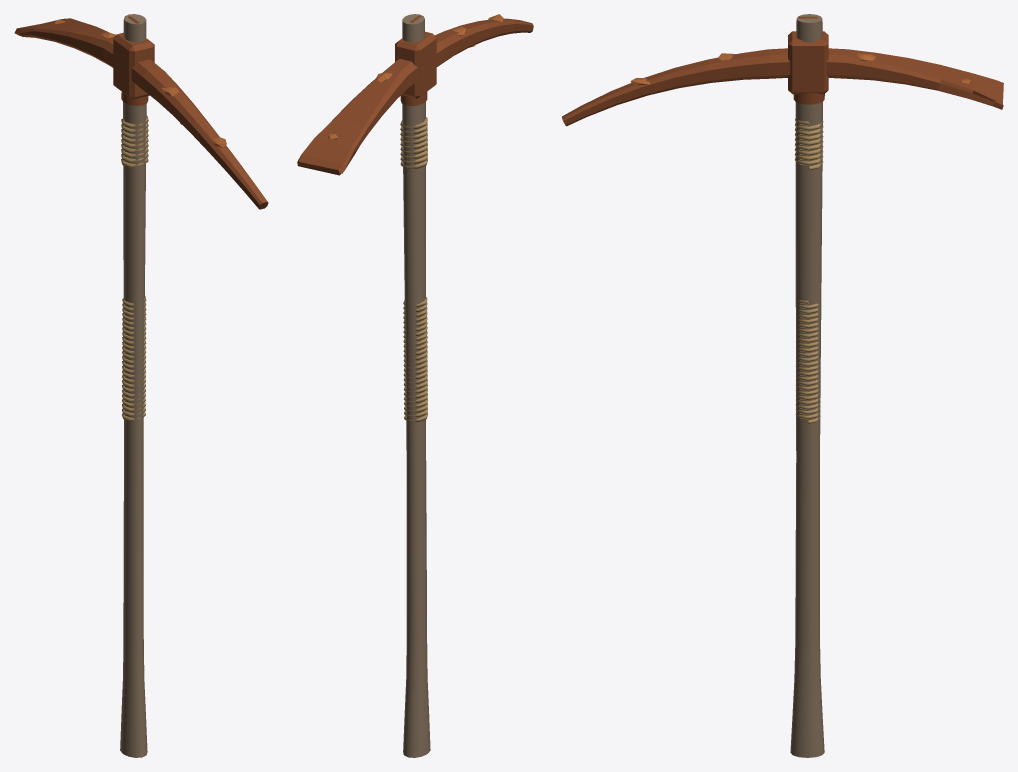
The model's file is tool_pickaxe_rust.fbx.
The picture shows the model from 3 angles, left to right: view 1: azimuth 30°, elevation 25°; view 2: azimuth 150°, elevation 25°; view 3: azimuth 270°, elevation 25°; orthographic projection.
Parts seen in each view (by area): view 1: Tool_Pickaxe_Rust_Handle, Tool_Pickaxe_Rust_Head, Tool_Pickaxe_Rust_Wrap; view 2: Tool_Pickaxe_Rust_Handle, Tool_Pickaxe_Rust_Head, Tool_Pickaxe_Rust_Wrap; view 3: Tool_Pickaxe_Rust_Handle, Tool_Pickaxe_Rust_Head, Tool_Pickaxe_Rust_Wrap.
Boxes of the visible parts, x1=… form: Tool_Pickaxe_Rust_Handle: x1=120, y1=14, x2=148, y2=757; Tool_Pickaxe_Rust_Head: x1=14, y1=16, x2=268, y2=209; Tool_Pickaxe_Rust_Wrap: x1=121, y1=115, x2=148, y2=420; Tool_Pickaxe_Rust_Handle: x1=400, y1=14, x2=430, y2=757; Tool_Pickaxe_Rust_Head: x1=297, y1=15, x2=533, y2=175; Tool_Pickaxe_Rust_Wrap: x1=400, y1=117, x2=427, y2=421; Tool_Pickaxe_Rust_Handle: x1=790, y1=14, x2=824, y2=757; Tool_Pickaxe_Rust_Head: x1=562, y1=16, x2=1003, y2=126; Tool_Pickaxe_Rust_Wrap: x1=795, y1=118, x2=823, y2=423.
Bounding box in the file's own units: 9.34 × 147 × 80.06.
